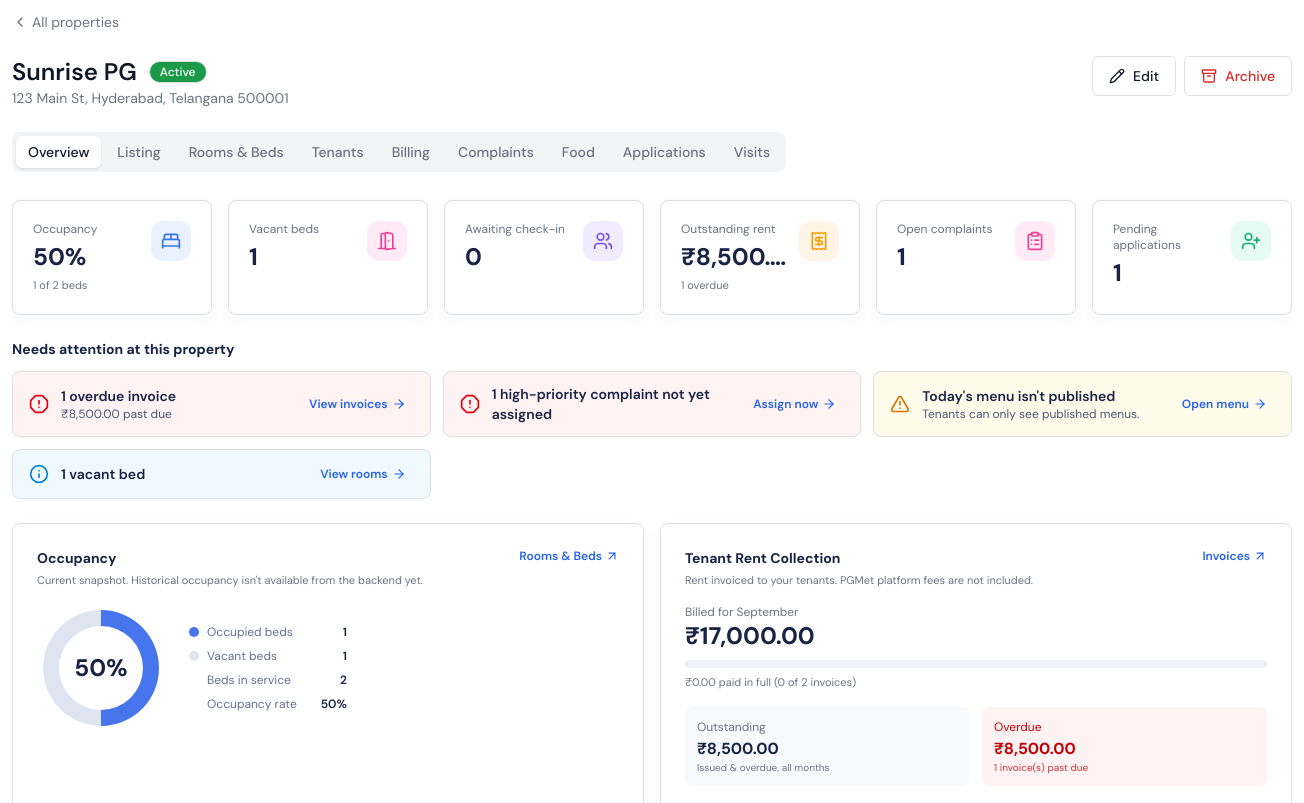
Test: PropertyDetailPage — Property 360 › shows the Billing tab scoped to this property
Click the tab "Billing". click: (411, 152)
box: [380,136,442,168]
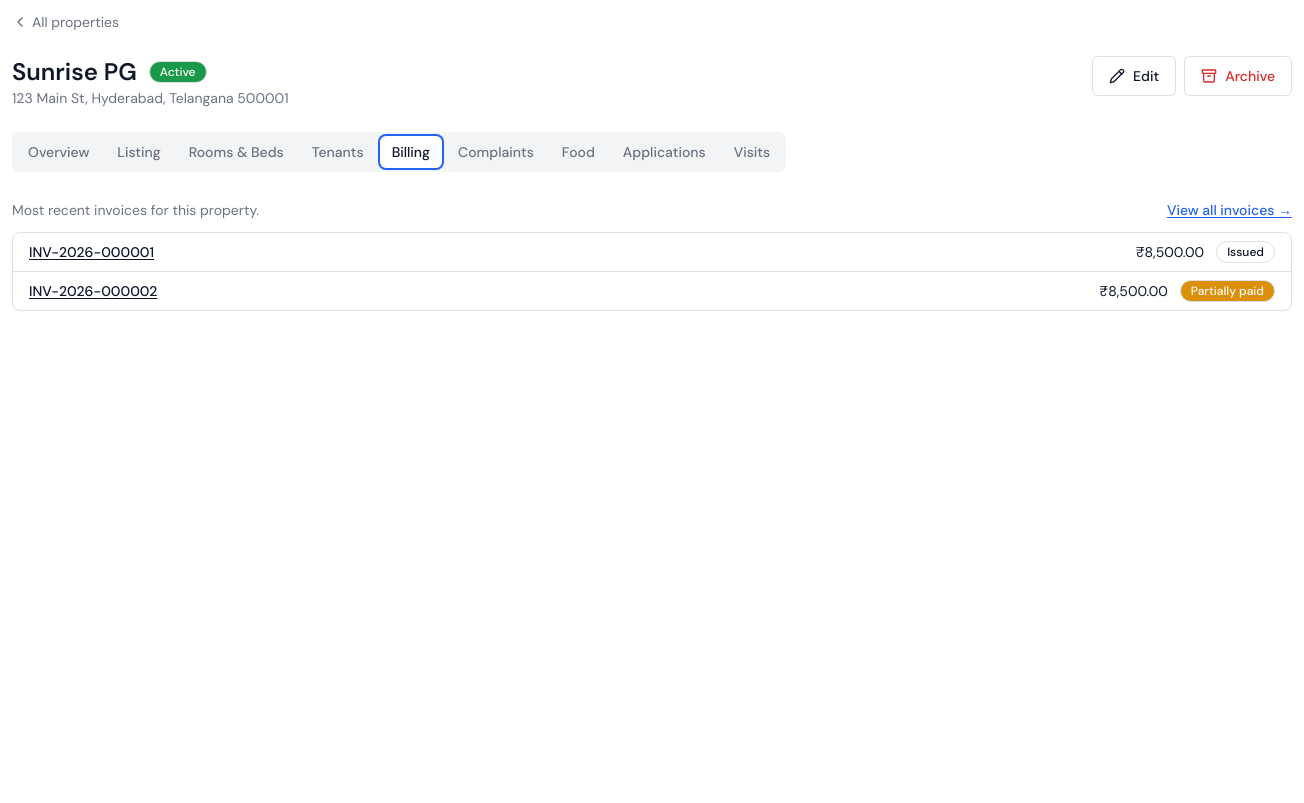
expect the link "INV-2026-000001" is shown: met, box [29,242,154,262]
